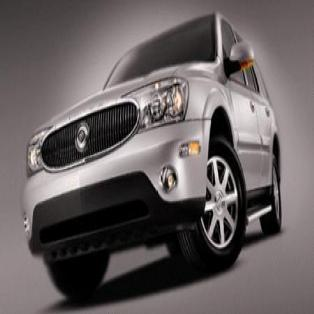Auto: (18, 8, 282, 293)
